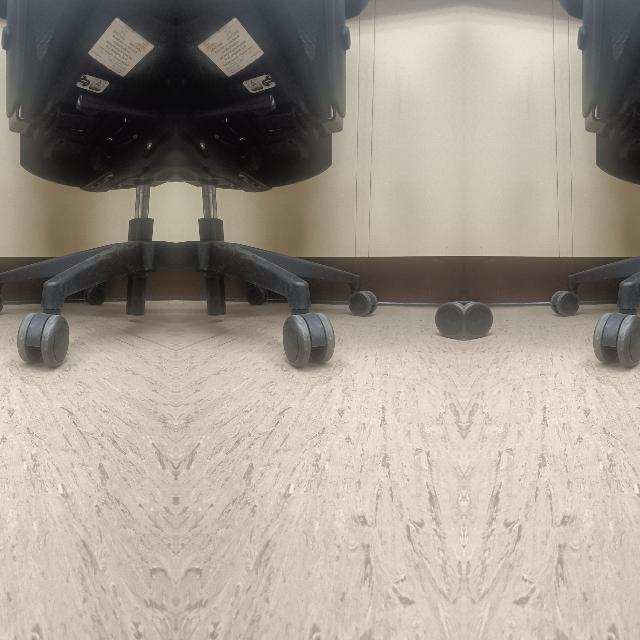obstacle: (178, 192, 384, 368), (0, 192, 172, 367), (543, 192, 640, 367)
